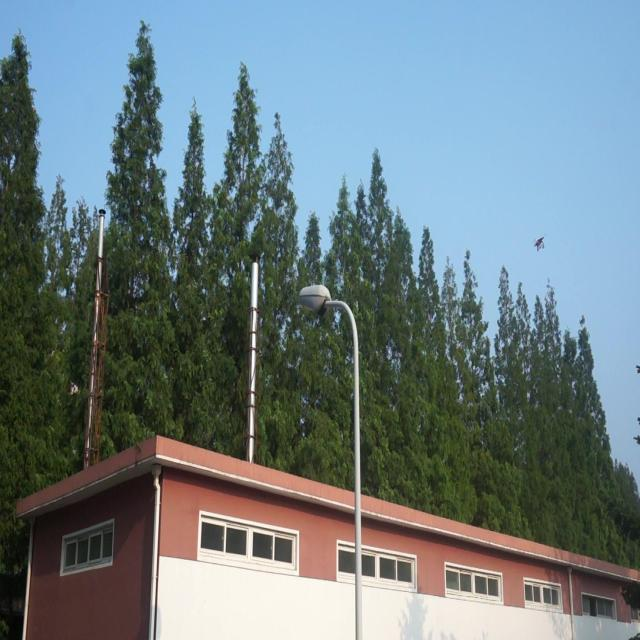drone: (532, 233, 547, 253)
